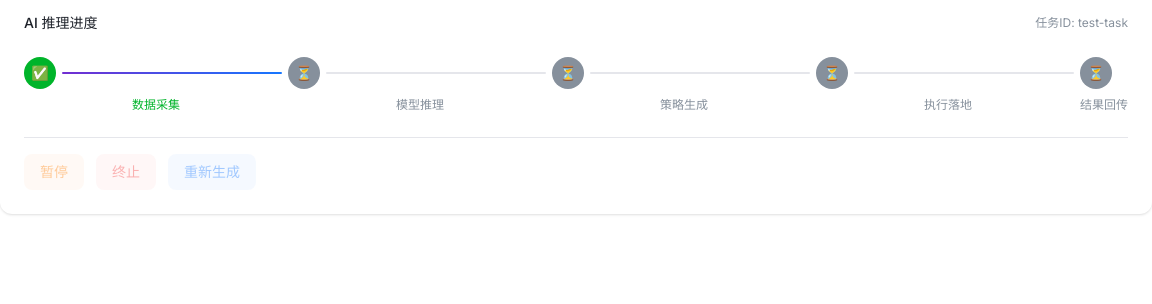
Scenario: AIStepProgress › collapses step details on second click
Click the button with test id "step-dot-0": [40, 73] box [24,57,56,89]
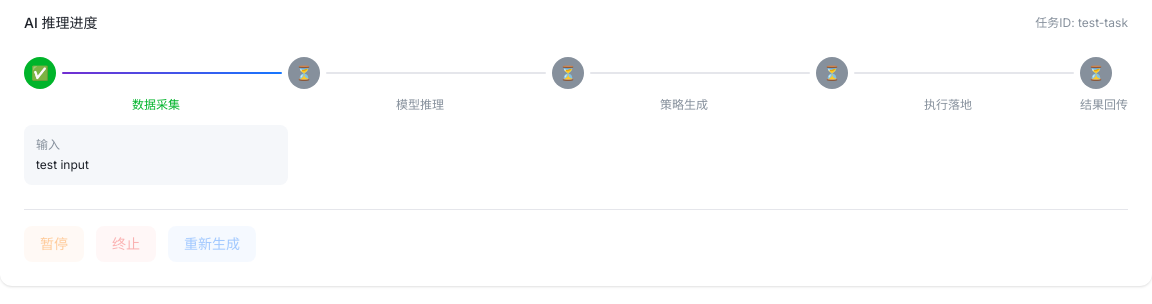
Check: the element with test id "step-detail-0" is shown, box [24,125,288,185]
Click the button with test id "step-dot-0": [40, 73] box [24,57,56,89]
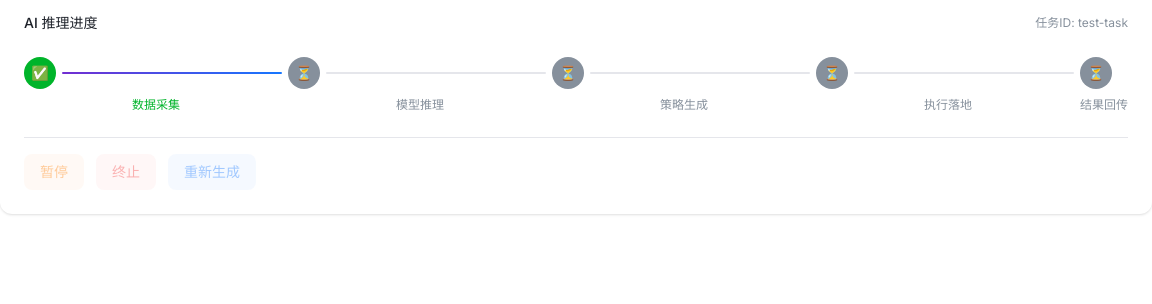
Check: the element with test id "step-detail-0" is gone
